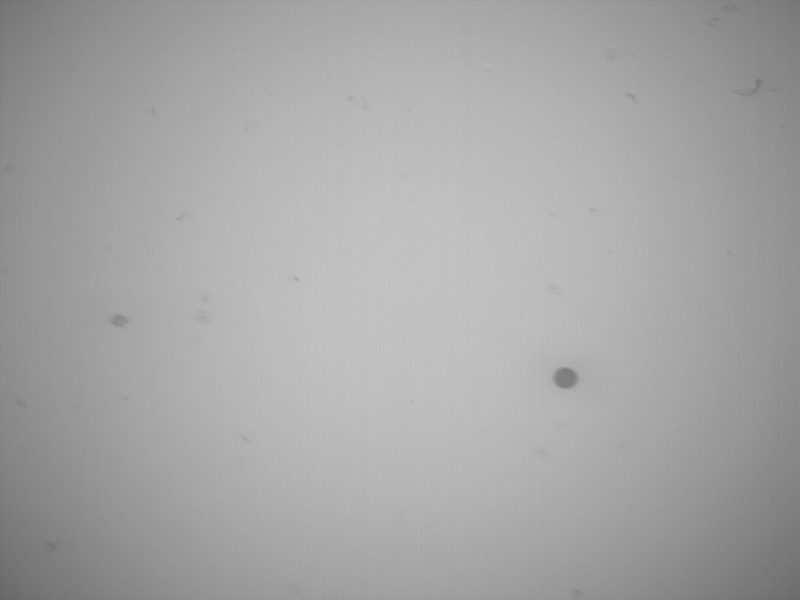bead: (552, 366, 580, 390)
